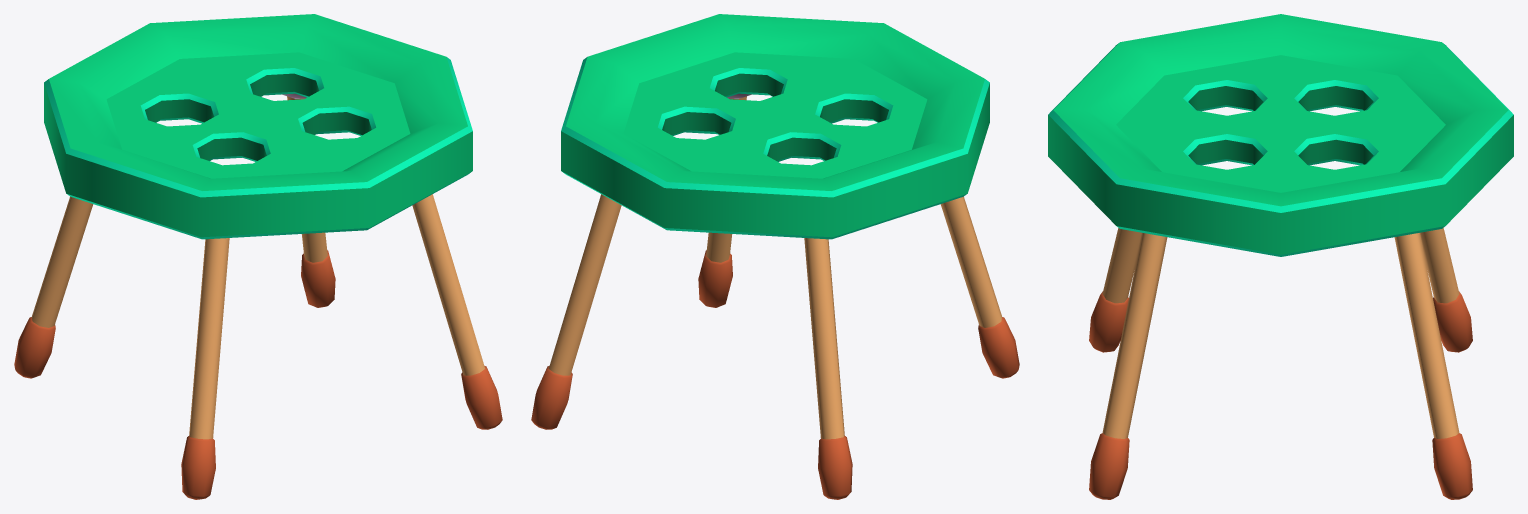
The model's file is Stool.fbx.
3 views of the same model, side by side, from view 1: azimuth 30°, elevation 25°; view 2: azimuth 150°, elevation 25°; view 3: azimuth 270°, elevation 25° (orthographic). The views are drawn at different scales.
Parts seen in each view (by area): view 1: Stool; view 2: Stool; view 3: Stool.
Boxes of the visible parts, box(x1,y1,x2,y2) form: Stool: box(14, 14, 502, 499); Stool: box(531, 14, 1019, 499); Stool: box(1048, 14, 1513, 499).
Size of the model in its own units: 0.8741 by 0.6502 by 0.8741.
